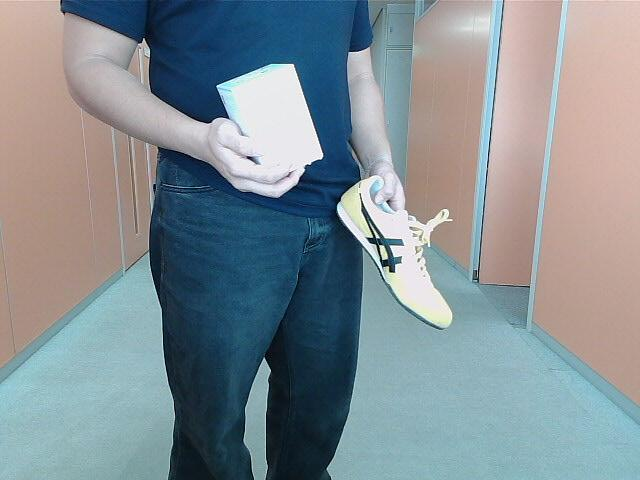Blind_box: (212, 64, 324, 178)
Shoes: (336, 172, 454, 331)
